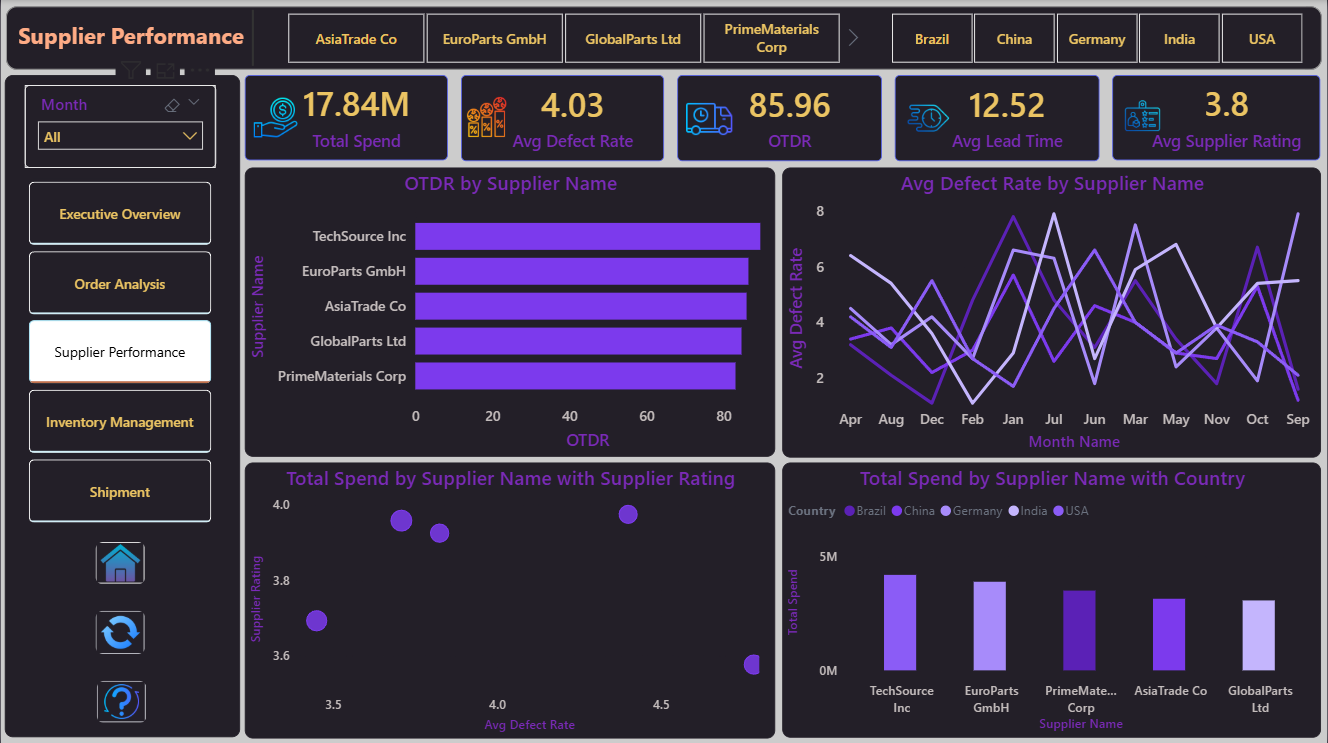

The dashboard page shown, as its layout file describes it:
{"tool":"powerbi","page":{"name":"Supplier Performance","canvas":[1280,720],"ordinal":2},"visuals":[{"type":"shape","box":[3.6,72.4,226.8,639.4],"z":0},{"type":"shape","box":[0,1.2,1280,66.4],"z":1000},{"type":"shape","box":[235.3,8.4,15.7,55.5],"z":2000},{"type":"textbox","box":[3.6,7.2,247.3,57.9],"z":3000},{"type":"ribbonChart","title":"Total Spend by Supplier Name with Country","fields":{"Y":["Sum(Supplier_Performance.Total_Spend)"],"Series":["Supplier_Performance.Country"],"Category":["Supplier_Performance.Supplier_Name"]},"box":[754,446.4,520,265.4],"z":4000},{"type":"slicer","fields":{"Values":["Supplier_Performance.Month_Name"]},"box":[22.9,82,184.6,79.6],"z":5000},{"type":"barChart","title":"OTDR by Supplier Name","fields":{"Category":["Supplier_Performance.Supplier_Name"],"Y":["Supplier_Performance.OTDR"]},"box":[235.1,161.4,512,279],"z":6000},{"type":"scatterChart","title":"Total Spend by Supplier Name with Supplier Rating","fields":{"Size":["Sum(Supplier_Performance.Total_Spend)"],"Category":["Supplier_Performance.Supplier_Name"],"Y":["Avg(Supplier_Performance.Supplier_Rating)"],"X":["Supplier_Performance.Avg_Defect_Rate"]},"box":[235.1,446.6,512,266],"z":7000},{"type":"lineChart","title":"Avg Defect Rate by Supplier Name","fields":{"Series":["Supplier_Performance.Supplier_Name"],"Category":["Supplier_Performance.Month_Name"],"Y":["Supplier_Performance.Avg_Defect_Rate"]},"box":[754,161.7,520,279.9],"z":8000},{"type":"card","fields":{"Values":["Sum(Supplier_Performance.Total_Spend)"]},"box":[235.1,72.1,196.2,82.1],"z":9000},{"type":"card","fields":{"Values":["Avg(Supplier_Performance.Avg_Lead_Time)"]},"box":[862.6,72.3,197.6,83.5],"z":10000},{"type":"card","fields":{"Values":["Avg(Supplier_Performance.Supplier_Rating)"]},"box":[1072.5,72.4,201,82],"z":11000},{"type":"card","fields":{"Values":["Supplier_Performance.OTDR"]},"box":[652.5,72.3,197.6,83.5],"z":12000},{"type":"card","fields":{"Values":["Supplier_Performance.Avg_Defect_Rate"]},"box":[443.8,72.3,196.2,83.5],"z":13000},{"type":"slicer","fields":{"Values":["Supplier_Performance.Country"]},"box":[833.7,6,446.4,61.5],"z":14000},{"type":"pageNavigator","box":[22.9,171.3,184.6,337],"z":15000},{"type":"image","box":[240.1,89.3,49.5,44.6],"z":16000},{"type":"image","box":[447.6,92.9,42.2,39.8],"z":17000},{"type":"image","box":[653.9,88.1,59.1,53.1],"z":18000},{"type":"image","box":[862.6,90.5,65.1,47.1],"z":19000},{"type":"image","box":[1073.7,91.7,55.5,39.8],"z":20000},{"type":"image","box":[90.5,588.7,49.5,43.4],"z":21000},{"type":"image","box":[91.7,656.3,49.5,42.2],"z":22000},{"type":"image","box":[90.5,522.4,49.5,42.2],"z":23000},{"type":"slicer","fields":{"Values":["Supplier_Performance.Supplier_Name"]},"box":[250.9,6,582.7,61.5],"z":24000}]}

Visuals, with their boxes on the page's 1280x720 design canvas (x1, y1, x2, y2). These are canvas units, not pixel positions in the 1328x743 screenshot, which may show the page scaled, cropped or inside an application window:
shape: pyautogui.locateOnScreen(4, 72, 230, 712)
shape: pyautogui.locateOnScreen(0, 1, 1280, 68)
shape: pyautogui.locateOnScreen(235, 8, 251, 64)
textbox: pyautogui.locateOnScreen(4, 7, 251, 65)
"Total Spend by Supplier Name with Country" ribbonChart: pyautogui.locateOnScreen(754, 446, 1274, 712)
slicer - Supplier_Performance.Month_Name: pyautogui.locateOnScreen(23, 82, 208, 162)
"OTDR by Supplier Name" barChart: pyautogui.locateOnScreen(235, 161, 747, 440)
"Total Spend by Supplier Name with Supplier Rating" scatterChart: pyautogui.locateOnScreen(235, 447, 747, 713)
"Avg Defect Rate by Supplier Name" lineChart: pyautogui.locateOnScreen(754, 162, 1274, 442)
card - Sum(Supplier_Performance.Total_Spend): pyautogui.locateOnScreen(235, 72, 431, 154)
card - Avg(Supplier_Performance.Avg_Lead_Time): pyautogui.locateOnScreen(863, 72, 1060, 156)
card - Avg(Supplier_Performance.Supplier_Rating): pyautogui.locateOnScreen(1072, 72, 1274, 154)
card - Supplier_Performance.OTDR: pyautogui.locateOnScreen(652, 72, 850, 156)
card - Supplier_Performance.Avg_Defect_Rate: pyautogui.locateOnScreen(444, 72, 640, 156)
slicer - Supplier_Performance.Country: pyautogui.locateOnScreen(834, 6, 1280, 68)
pageNavigator: pyautogui.locateOnScreen(23, 171, 208, 508)
image: pyautogui.locateOnScreen(240, 89, 290, 134)
image: pyautogui.locateOnScreen(448, 93, 490, 133)
image: pyautogui.locateOnScreen(654, 88, 713, 141)
image: pyautogui.locateOnScreen(863, 90, 928, 138)
image: pyautogui.locateOnScreen(1074, 92, 1129, 132)
image: pyautogui.locateOnScreen(90, 589, 140, 632)
image: pyautogui.locateOnScreen(92, 656, 141, 698)
image: pyautogui.locateOnScreen(90, 522, 140, 565)
slicer - Supplier_Performance.Supplier_Name: pyautogui.locateOnScreen(251, 6, 834, 68)
